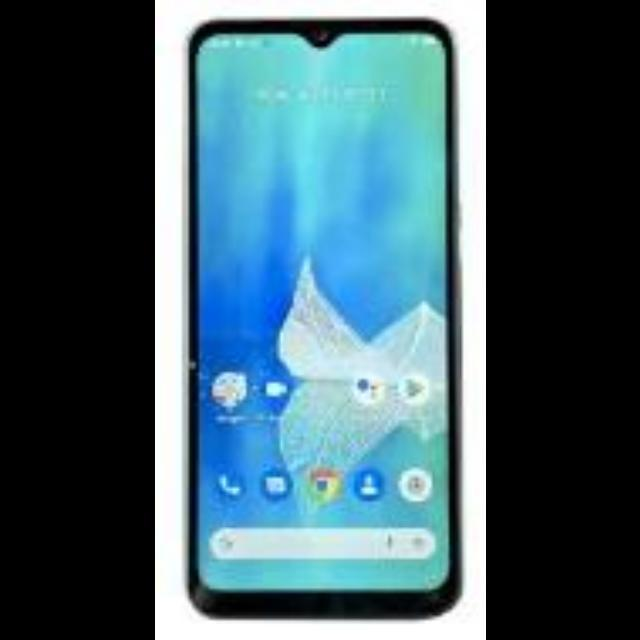phone: (181, 23, 464, 607)
